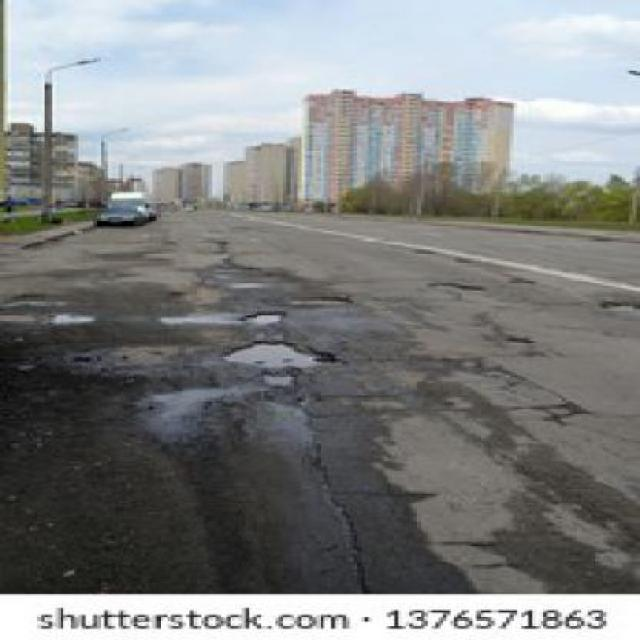Pothole: (223, 335, 339, 374), (236, 311, 289, 329)
